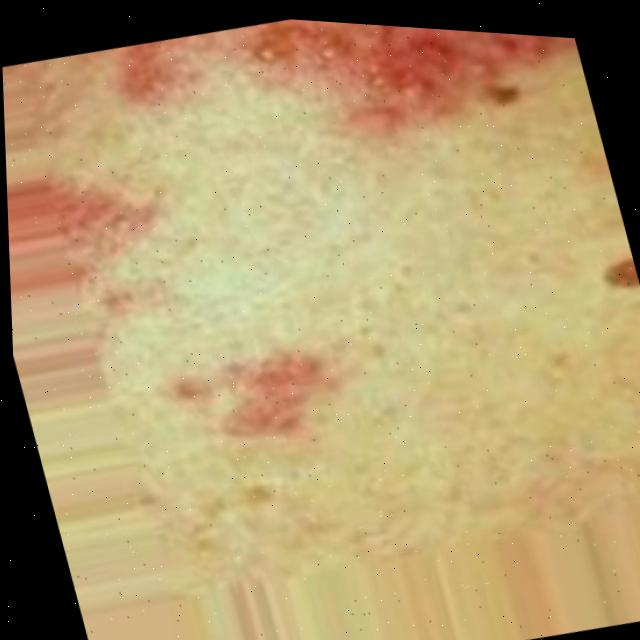Shingles: (27, 2, 628, 347), (173, 354, 351, 459)
